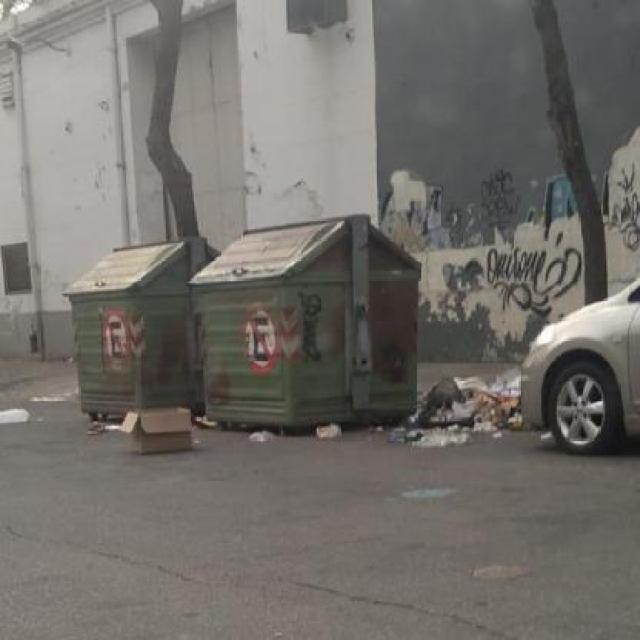garbage: (417, 362, 530, 468), (99, 400, 240, 476), (296, 414, 356, 448), (0, 380, 37, 429), (242, 420, 291, 446)
